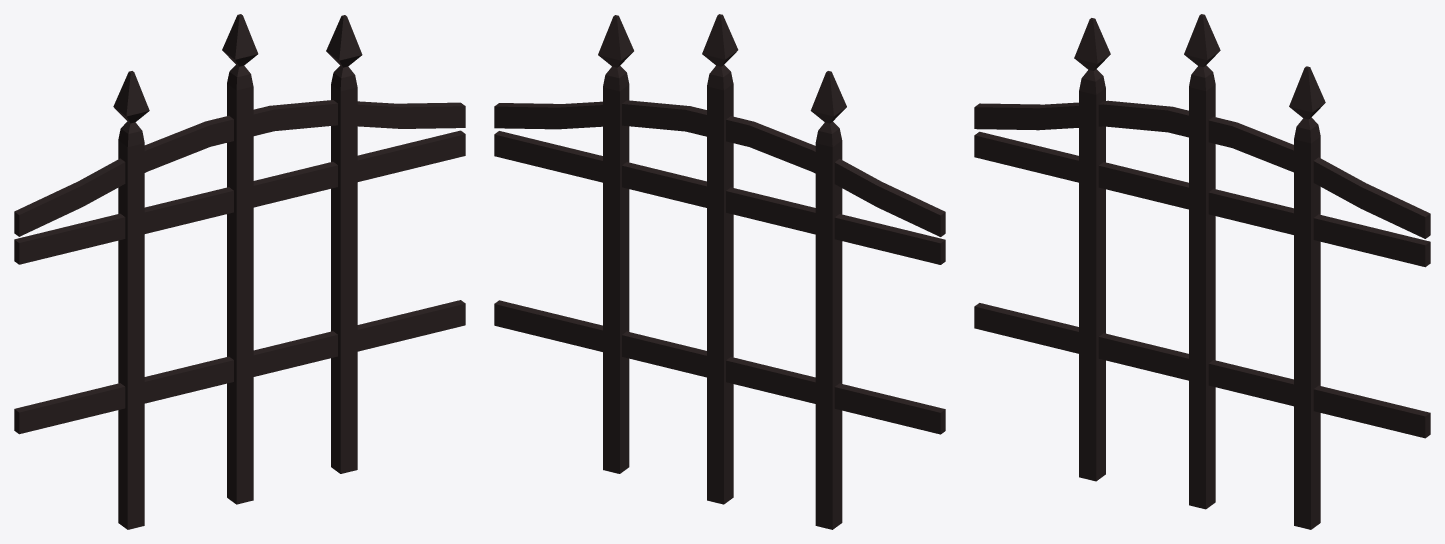
The model's file is fenceBSection1.glb.
3 renders of one model, left to right at view 1: azimuth 30°, elevation 25°; view 2: azimuth 150°, elevation 25°; view 3: azimuth 330°, elevation 25°, orthographic.
Parts seen in each view (by area): view 1: fenceBSection1; view 2: fenceBSection1; view 3: fenceBSection1.
Boxes of the visible parts, bbox=[...] form: fenceBSection1: bbox=[14, 14, 465, 529]; fenceBSection1: bbox=[494, 14, 945, 529]; fenceBSection1: bbox=[974, 14, 1430, 529].
Size of the model in its own units: 2 by 2.07 by 0.1021.
1 material, 1 textured.
